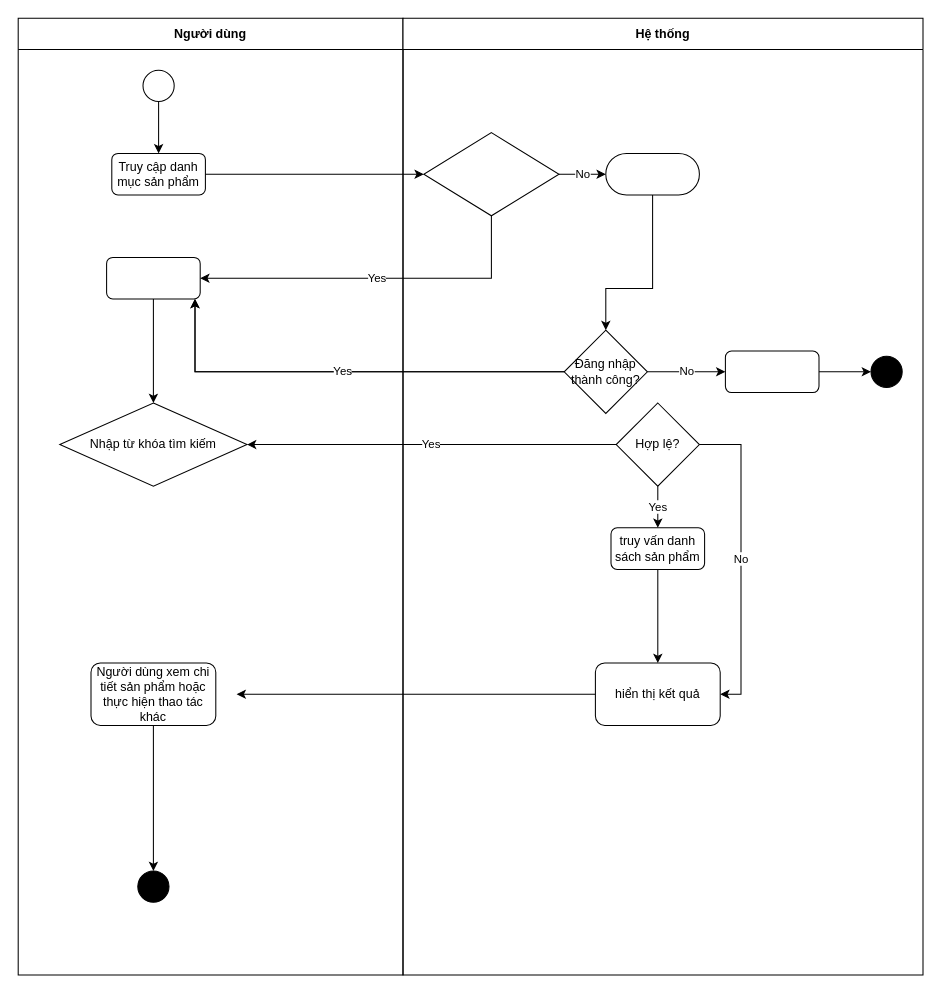
Some shapes in this 941 by 993 pixel diagram are drawn without their labels. The shapes that lost their labels are listed below. From the top down, each one's centre as x and y in pixels, then its label:
At [491,174]: "Kiểm tra đăng nhập?".
At [652,173]: "Yêu cầu đăng nhập".
At [153,277]: "Chọn phân loại sản phẩm".
At [771,371]: "Thông báo lỗi".
